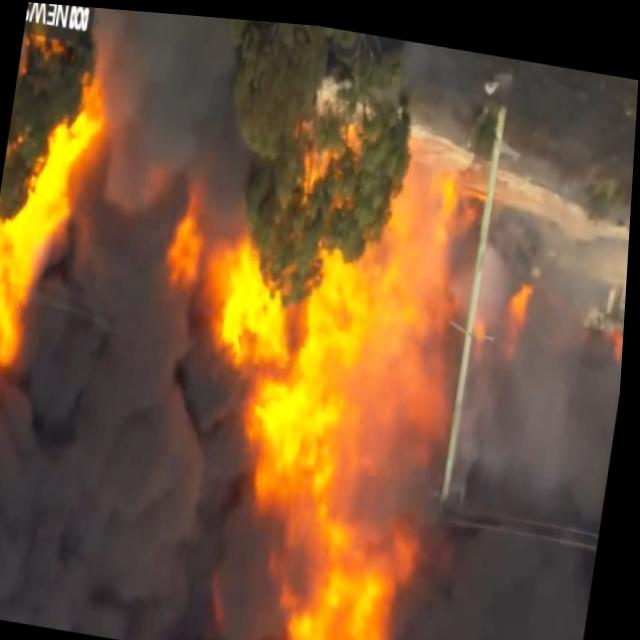Fire: (142, 116, 479, 640), (0, 61, 119, 445)
